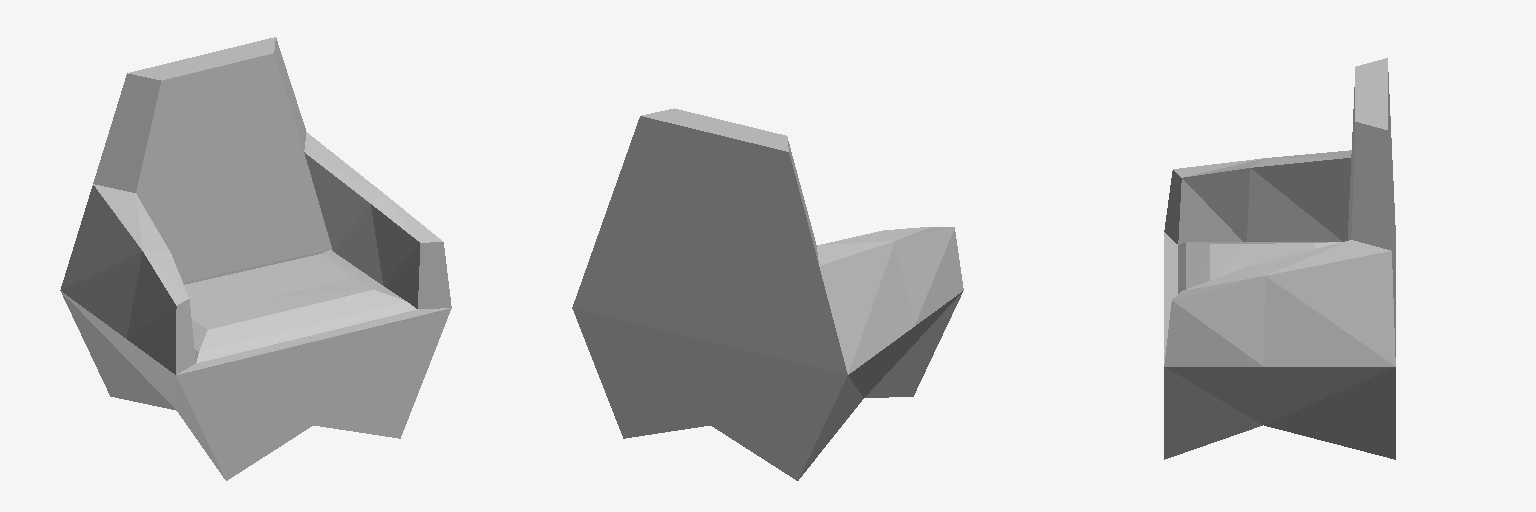
The model's file is LoungeChair.obj.
3 renders of one model, left to right at view 1: azimuth 30°, elevation 25°; view 2: azimuth 150°, elevation 25°; view 3: azimuth 270°, elevation 25°, orthographic.
Visible parts, largest first — view 1: Cube; view 2: Cube; view 3: Cube.
Part boxes in pixels (left/top/right/bottom): Cube: left=60, top=37, right=451, bottom=480; Cube: left=572, top=108, right=963, bottom=480; Cube: left=1164, top=58, right=1395, bottom=459.
Bounding box in the file's own units: 3.16 × 3.54 × 2.3.